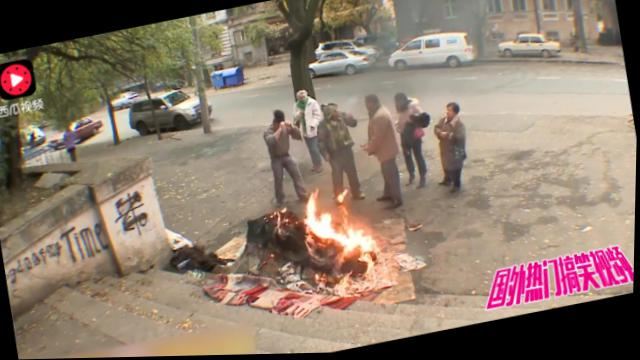fire: (345, 220, 377, 257), (302, 194, 320, 238), (314, 212, 334, 241), (334, 232, 346, 245)
